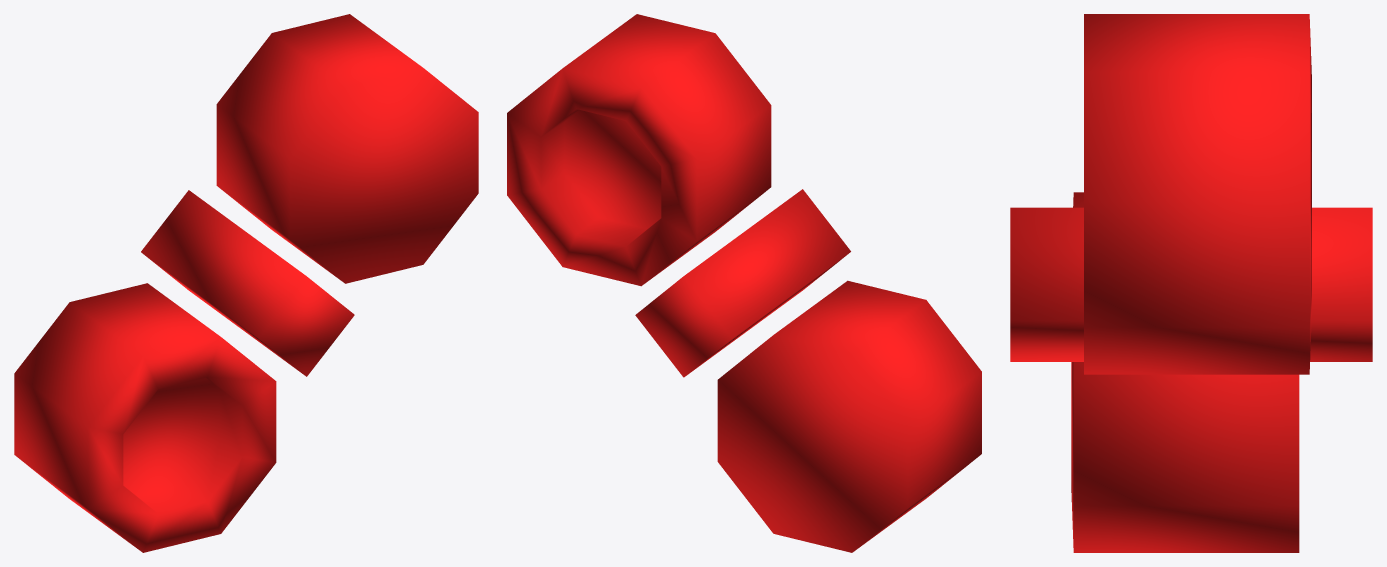
File: Rubble03.FBX
3 renders of one model, left to right at view 1: azimuth 30°, elevation 25°; view 2: azimuth 150°, elevation 25°; view 3: azimuth 270°, elevation 25°, orthographic. The views are drawn at different scales.
Visible parts, largest first — view 1: 00_shild_01_013; view 2: 00_shild_01_013; view 3: 00_shild_01_013.
Boxes of the visible parts, left/top/right/bottom form: 00_shild_01_013: left=14, top=14, right=478, bottom=552; 00_shild_01_013: left=507, top=14, right=981, bottom=552; 00_shild_01_013: left=1010, top=14, right=1372, bottom=552.
Size of the model in its own units: 24.18 by 24.26 by 12.55.
Materials: 1 (1 with a texture image).
